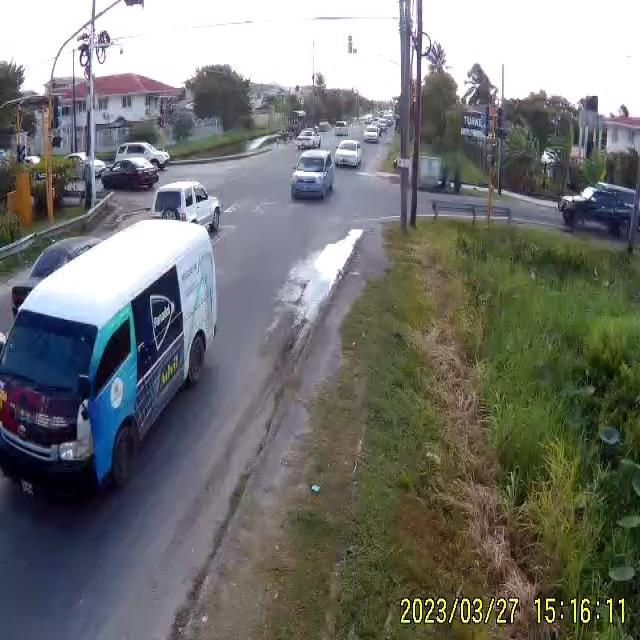car: (1, 217, 219, 501), (563, 186, 638, 239), (154, 180, 212, 221), (290, 152, 334, 202), (101, 160, 158, 192), (114, 143, 168, 171), (336, 141, 363, 171), (295, 130, 318, 150), (363, 125, 380, 142)
